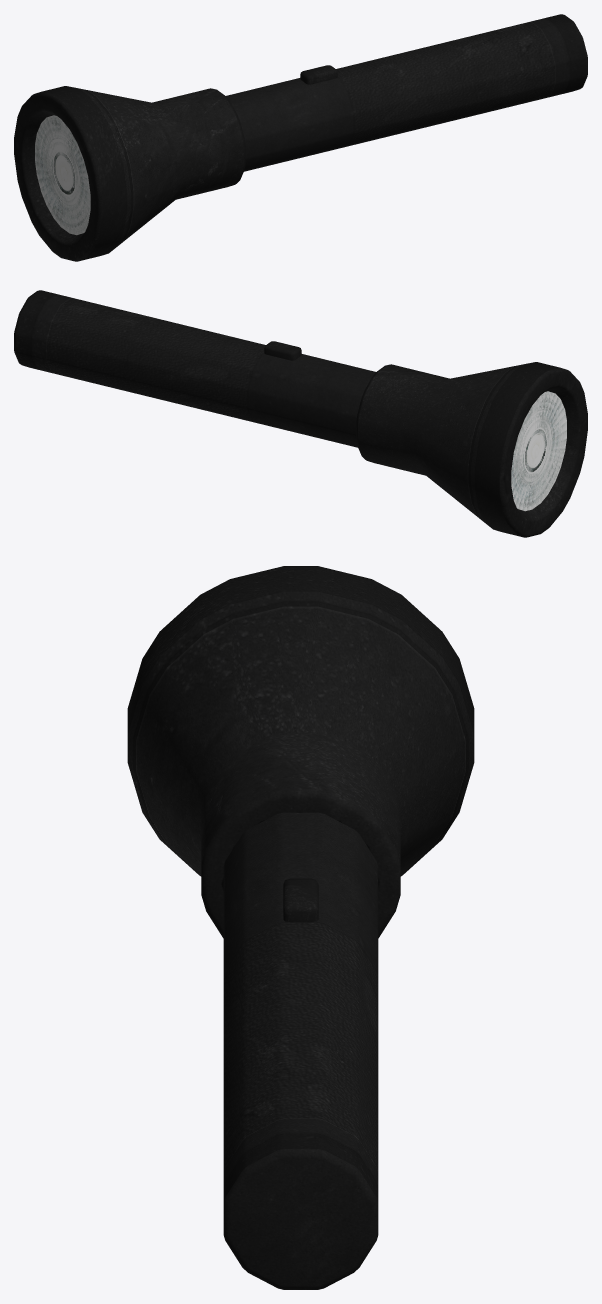
Rendered from Flashlight.FBX.
3 views of the same model, one above another, from view 1: azimuth 30°, elevation 25°; view 2: azimuth 150°, elevation 25°; view 3: azimuth 270°, elevation 25° (orthographic). The views are drawn at different scales.
Visible parts, largest first — view 1: _Flashlight; view 2: _Flashlight; view 3: _Flashlight.
Part boxes in pixels (x1,y1,x2,y2): _Flashlight: (14, 14, 587, 261); _Flashlight: (14, 290, 587, 537); _Flashlight: (127, 566, 474, 1289).
Size of the model in its own units: 83.4 by 24.35 by 24.35.
Materials: 1 (1 with a texture image).
